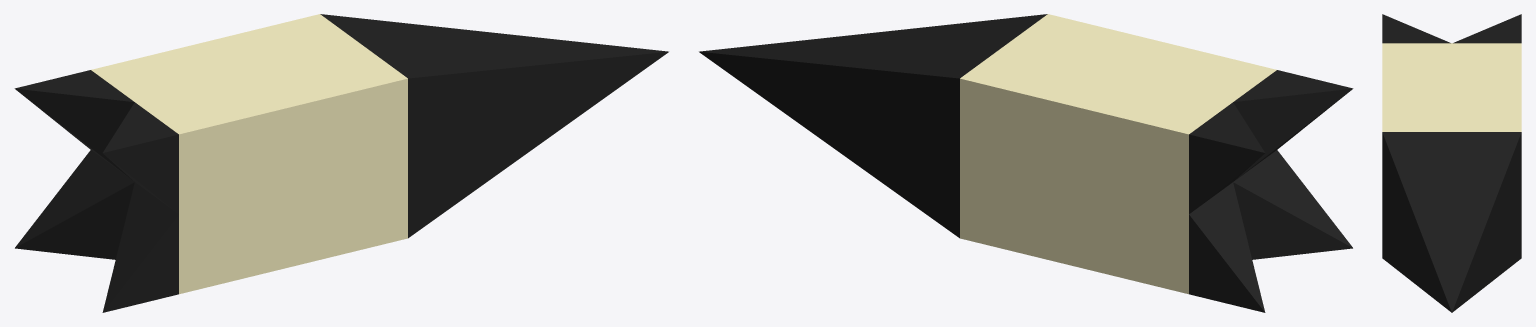
File: dash.obj
3 views of the same model, side by side, from view 1: azimuth 30°, elevation 25°; view 2: azimuth 150°, elevation 25°; view 3: azimuth 270°, elevation 25° (orthographic). The views are drawn at different scales.
Parts seen in each view (by area): view 1: entity0_brush1, entity0_brush0, entity0_brush2, entity0_brush3, entity0_brush5, entity0_brush4; view 2: entity0_brush1, entity0_brush0, entity0_brush3, entity0_brush2, entity0_brush4, entity0_brush5; view 3: entity0_brush0, entity0_brush1, entity0_brush4, entity0_brush5.
Boxes of the visible parts, x1=… form: entity0_brush1: x1=91, y1=14, x2=407, y2=294; entity0_brush0: x1=320, y1=14, x2=668, y2=238; entity0_brush2: x1=15, y1=150, x2=134, y2=259; entity0_brush3: x1=102, y1=182, x2=178, y2=312; entity0_brush5: x1=14, y1=70, x2=134, y2=181; entity0_brush4: x1=103, y1=102, x2=178, y2=213; entity0_brush1: x1=960, y1=14, x2=1276, y2=294; entity0_brush0: x1=699, y1=14, x2=1047, y2=238; entity0_brush3: x1=1233, y1=150, x2=1352, y2=259; entity0_brush2: x1=1189, y1=182, x2=1265, y2=312; entity0_brush4: x1=1233, y1=70, x2=1353, y2=181; entity0_brush5: x1=1189, y1=102, x2=1264, y2=213; entity0_brush0: x1=1382, y1=132, x2=1521, y2=312; entity0_brush1: x1=1382, y1=43, x2=1521, y2=131; entity0_brush4: x1=1382, y1=14, x2=1450, y2=43; entity0_brush5: x1=1453, y1=14, x2=1521, y2=43.
Bounding box in the file's own units: 128 × 32 × 32.
2 materials, 2 textured.
